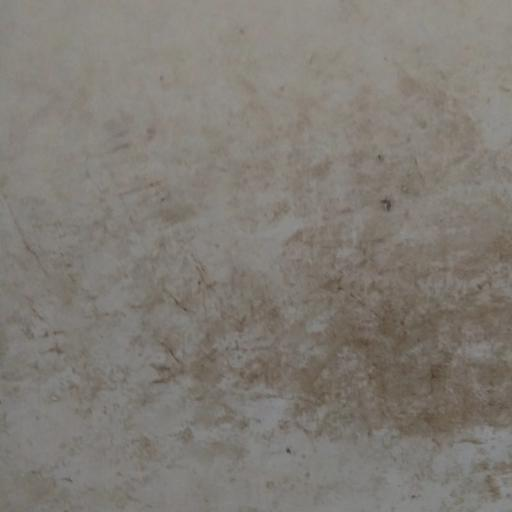stain: (100, 74, 512, 462)
